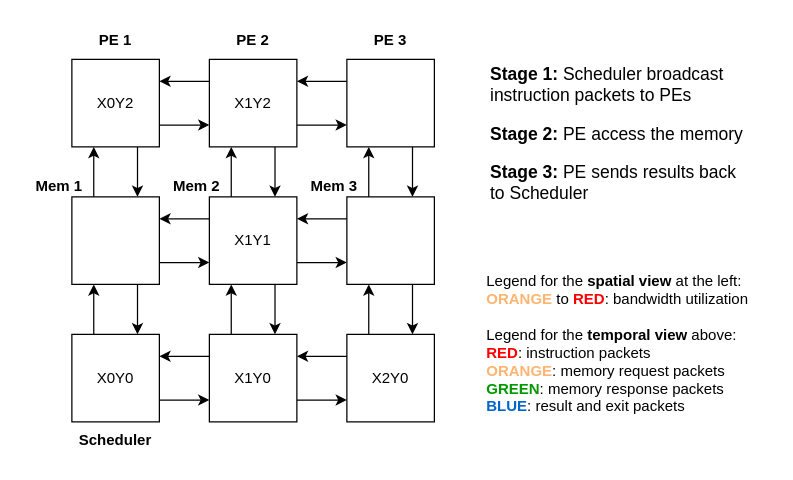
Some shapes in this 793 by 480 pixel diagram are drawn without their labels. The centre of each missing label's shape, as x and y in pixels:
"X0Y1" belongs at point 115,240.
"X2Y1" belongs at point 390,240.
"X2Y2" belongs at point 390,102.
